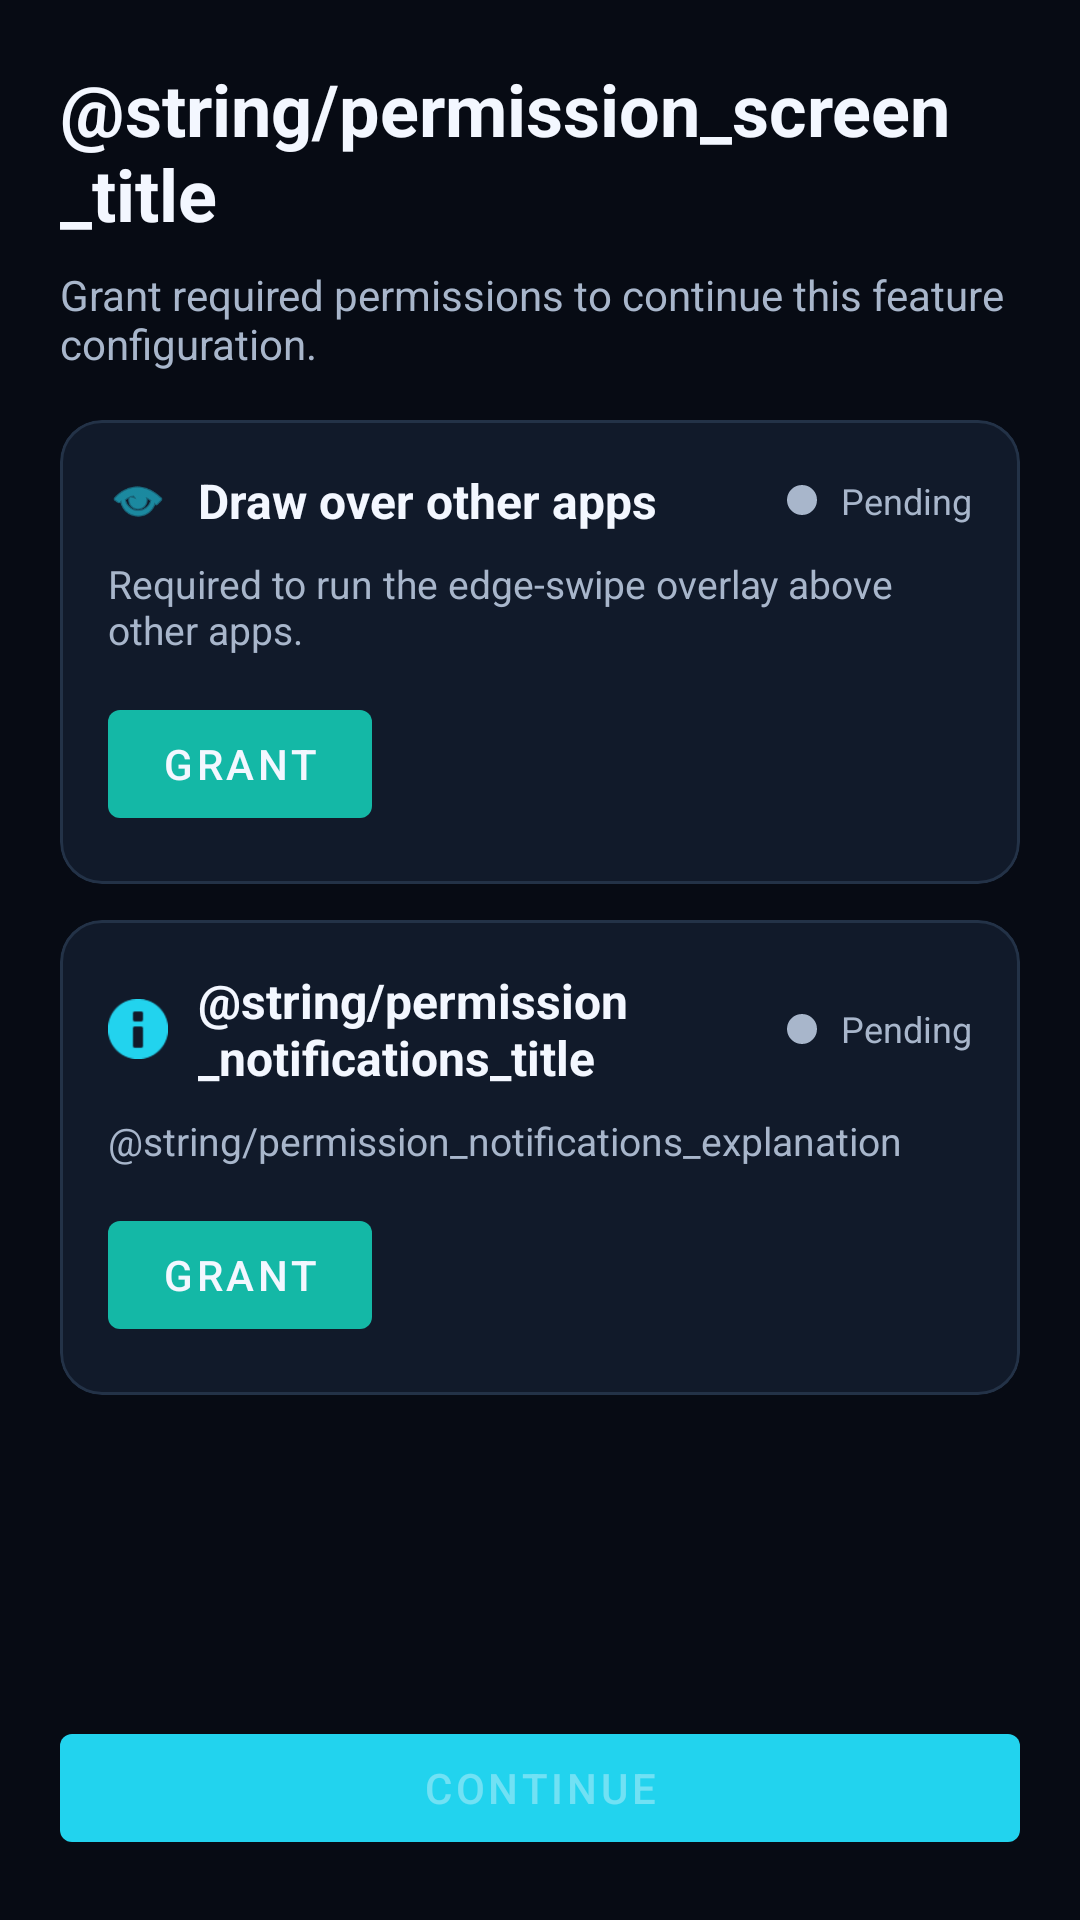

Icon bounding boxes for this 1080w x 1920h phone screenshot, format (x1, y1, x2, y2):
info: (108, 999, 168, 1059)
